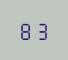eight: (19, 20, 33, 40)
three: (34, 20, 48, 40)
